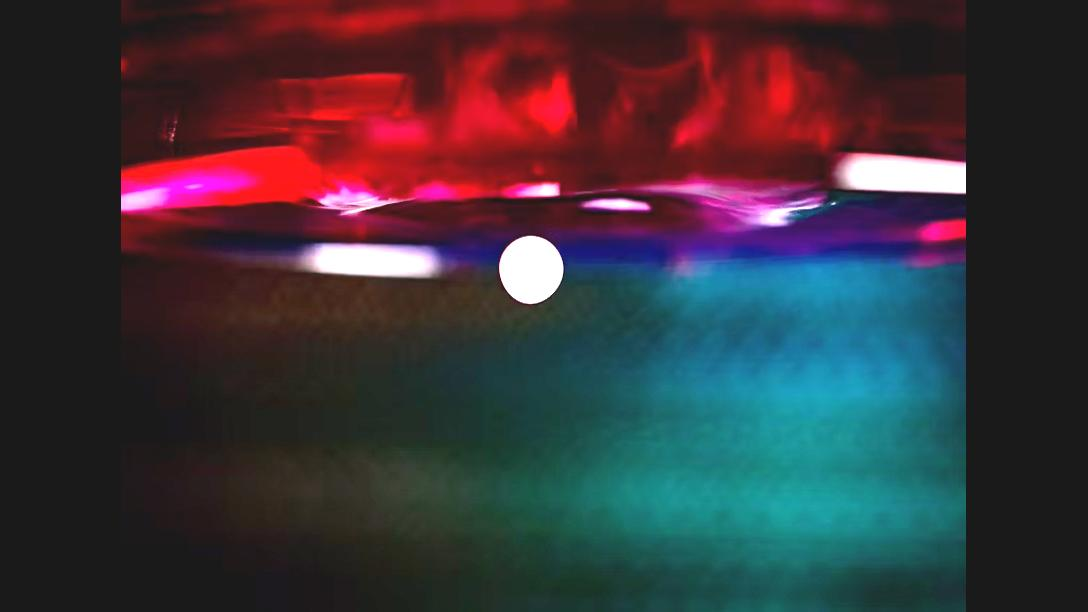Table-Tennis-Ball: (498, 236, 564, 304)
